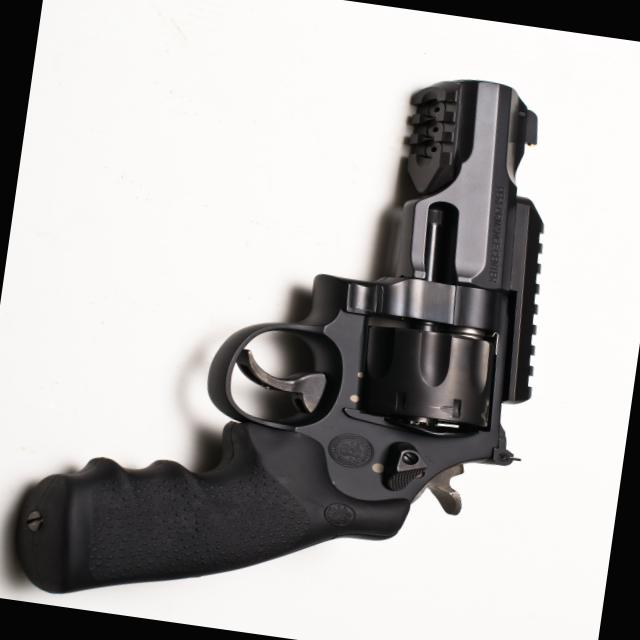handgun: (0, 20, 583, 639)
